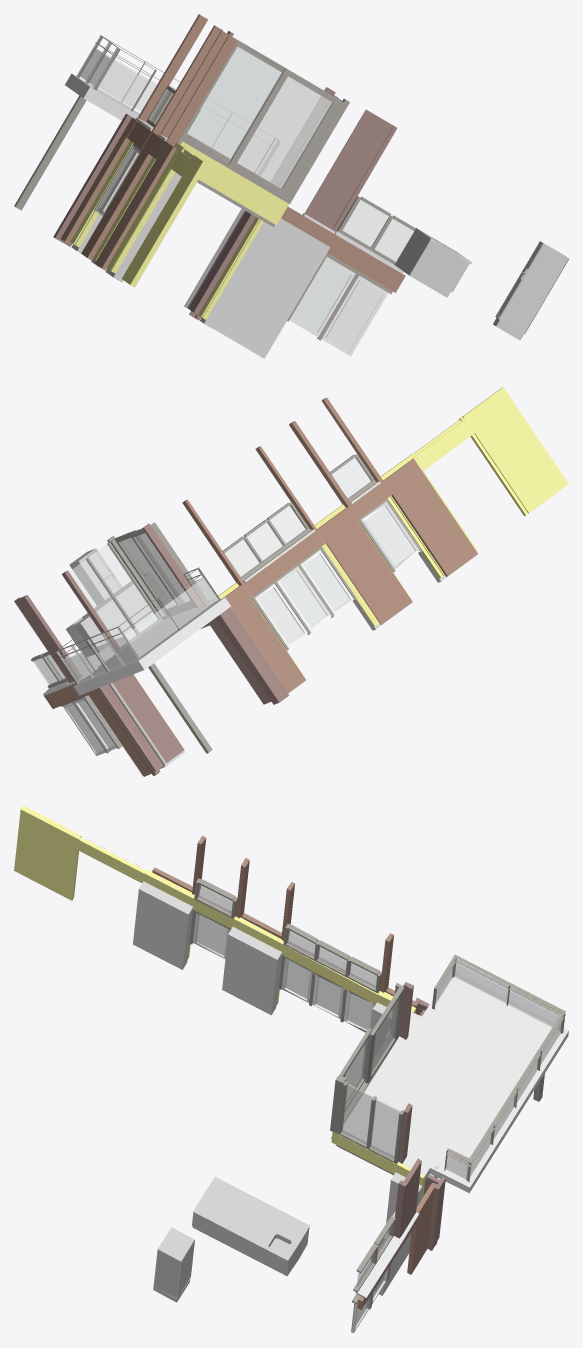
3 views of the same model, one above another, from view 1: azimuth 30°, elevation 25°; view 2: azimuth 150°, elevation 25°; view 3: azimuth 270°, elevation 25° (orthographic). The views are drawn at different scales.
Parts seen in each view (by area): view 1: mesh; view 2: mesh; view 3: mesh.
Part boxes in pixels (x1=…): mesh: x1=14, y1=14, x2=568, y2=358; mesh: x1=14, y1=387, x2=568, y2=776; mesh: x1=14, y1=805, x2=568, y2=1333.
Size of the model in its own units: 12.62 by 9.88 by 12.27.
